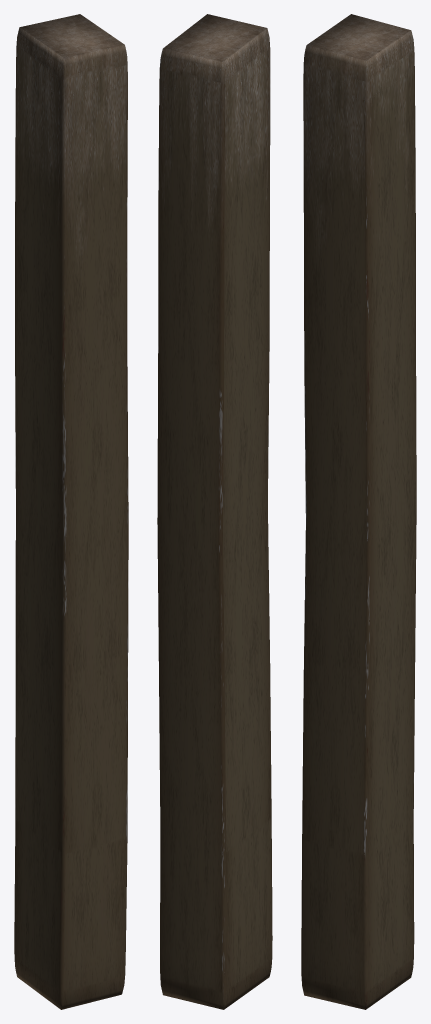
Rendered from soporte.fbx.
3 views of the same model, side by side, from view 1: azimuth 30°, elevation 25°; view 2: azimuth 150°, elevation 25°; view 3: azimuth 330°, elevation 25° (orthographic).
Parts seen in each view (by area): view 1: Cube.001; view 2: Cube.001; view 3: Cube.001.
Part boxes in pixels (box(x1,y1,x2,y2)): Cube.001: box(14, 14, 128, 1009); Cube.001: box(157, 14, 272, 1009); Cube.001: box(301, 14, 416, 1009).
Bounding box in the file's own units: 69.12 × 909 × 87.29.
